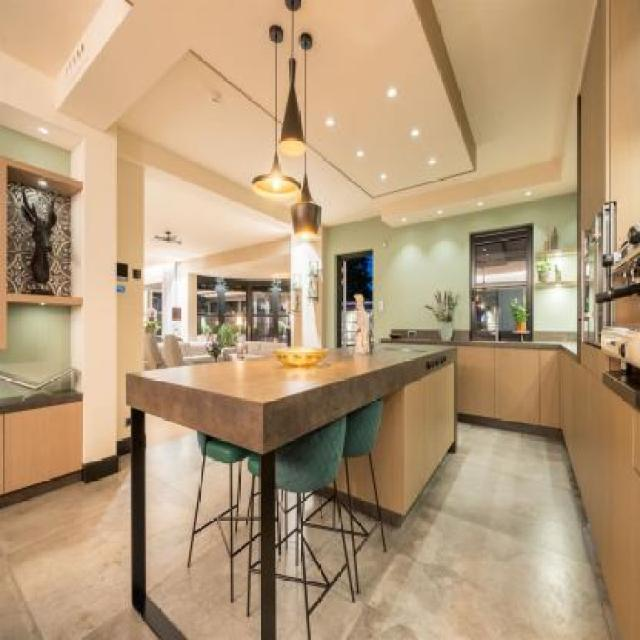floor: (322, 421, 620, 640), (1, 452, 164, 640)
